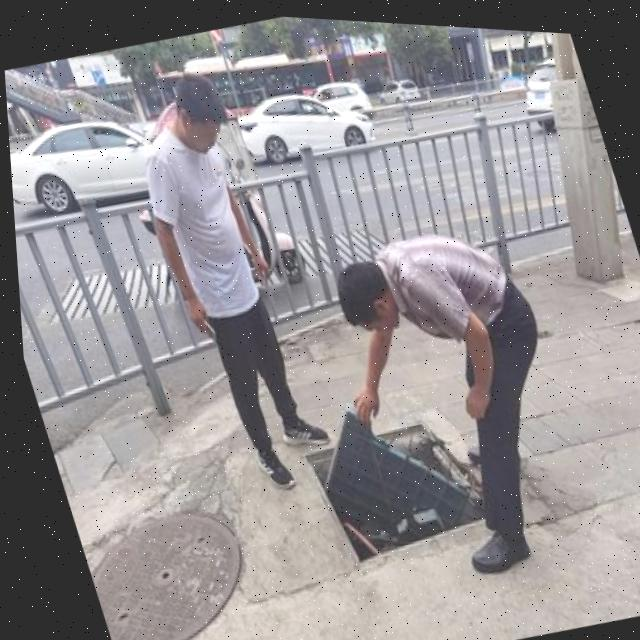manhole: (285, 392, 486, 569)
